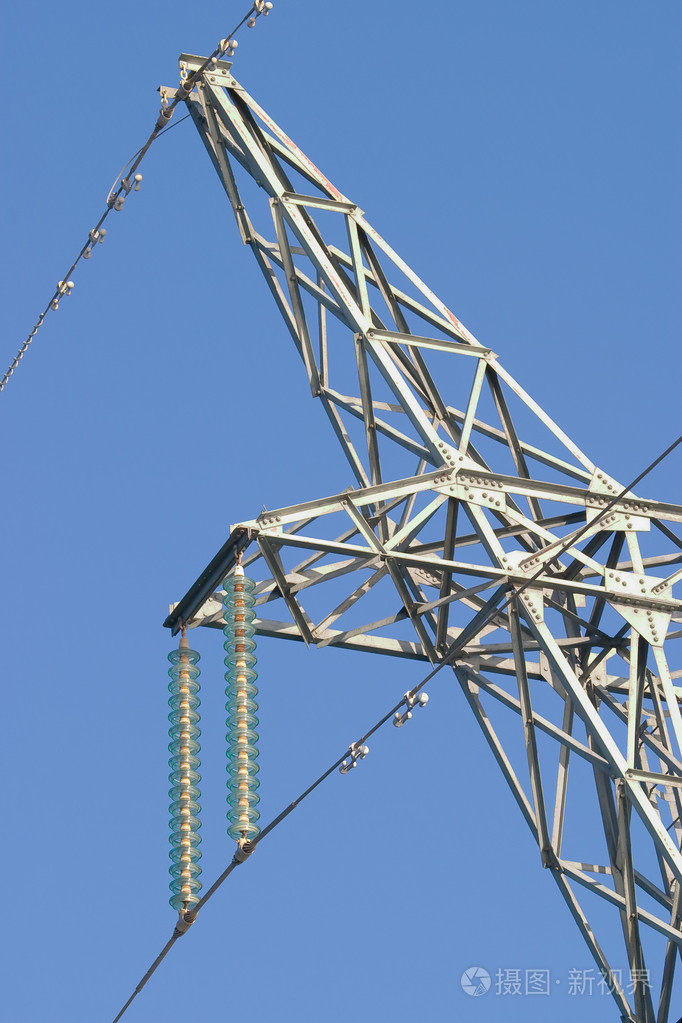insulator: (222, 571, 263, 839), (163, 646, 204, 912)
